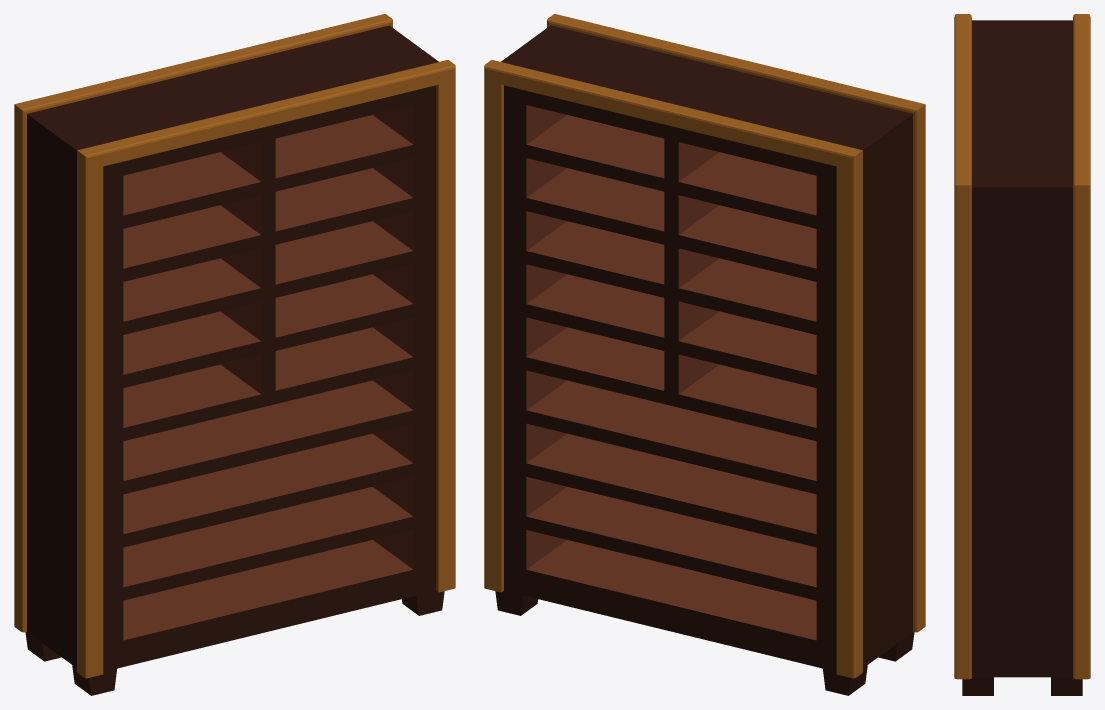
The model's file is LP_Shelve.fbx.
3 views of the same model, side by side, from view 1: azimuth 30°, elevation 25°; view 2: azimuth 150°, elevation 25°; view 3: azimuth 270°, elevation 25° (orthographic). The views are drawn at different scales.
Parts seen in each view (by area): view 1: Shelve, Legs_x4; view 2: Shelve, Legs_x4; view 3: Shelve, Legs_x4.
Part boxes in pixels (bbox=[...]): Shelve: bbox=[14, 14, 455, 678]; Legs_x4: bbox=[25, 591, 444, 695]; Shelve: bbox=[484, 14, 925, 678]; Legs_x4: bbox=[495, 591, 914, 695]; Shelve: bbox=[954, 14, 1090, 679]; Legs_x4: bbox=[962, 677, 1082, 695].
Bounding box in the file's own units: 256 × 359 × 86.
